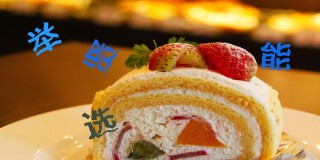举: (25, 21, 63, 57)
能: (260, 40, 292, 72)
贤: (82, 38, 119, 75)
选: (80, 106, 120, 140)
